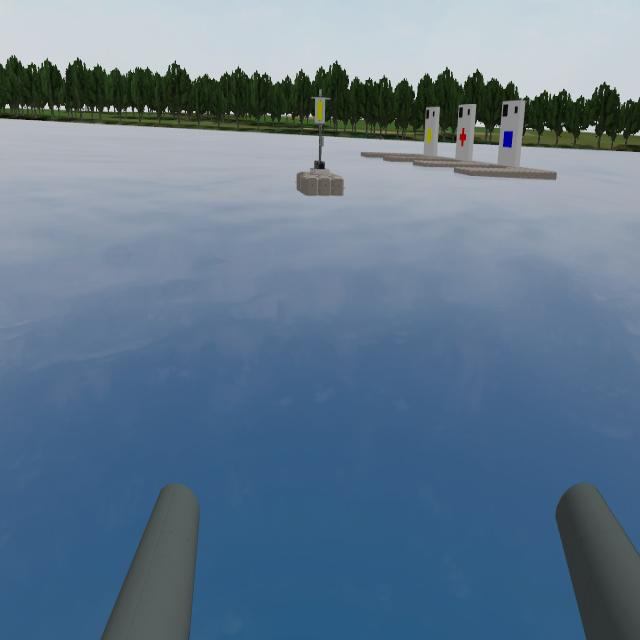yellow_pole: (309, 78, 330, 130)
